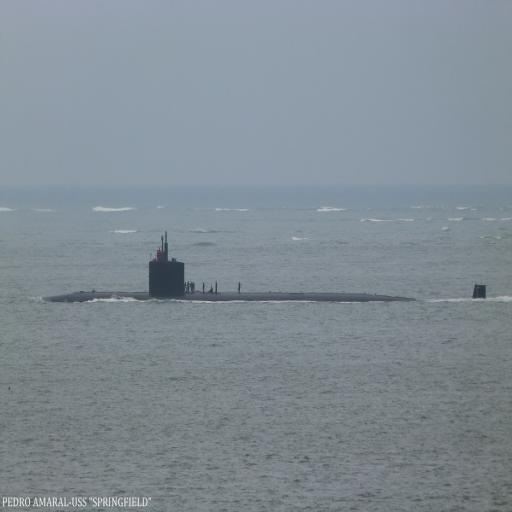submarine: (43, 231, 484, 305)
